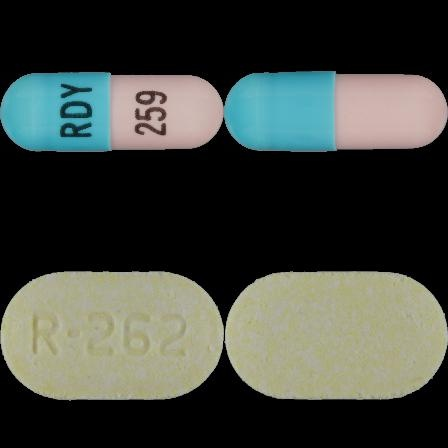55111-259: (0, 0, 224, 224)
